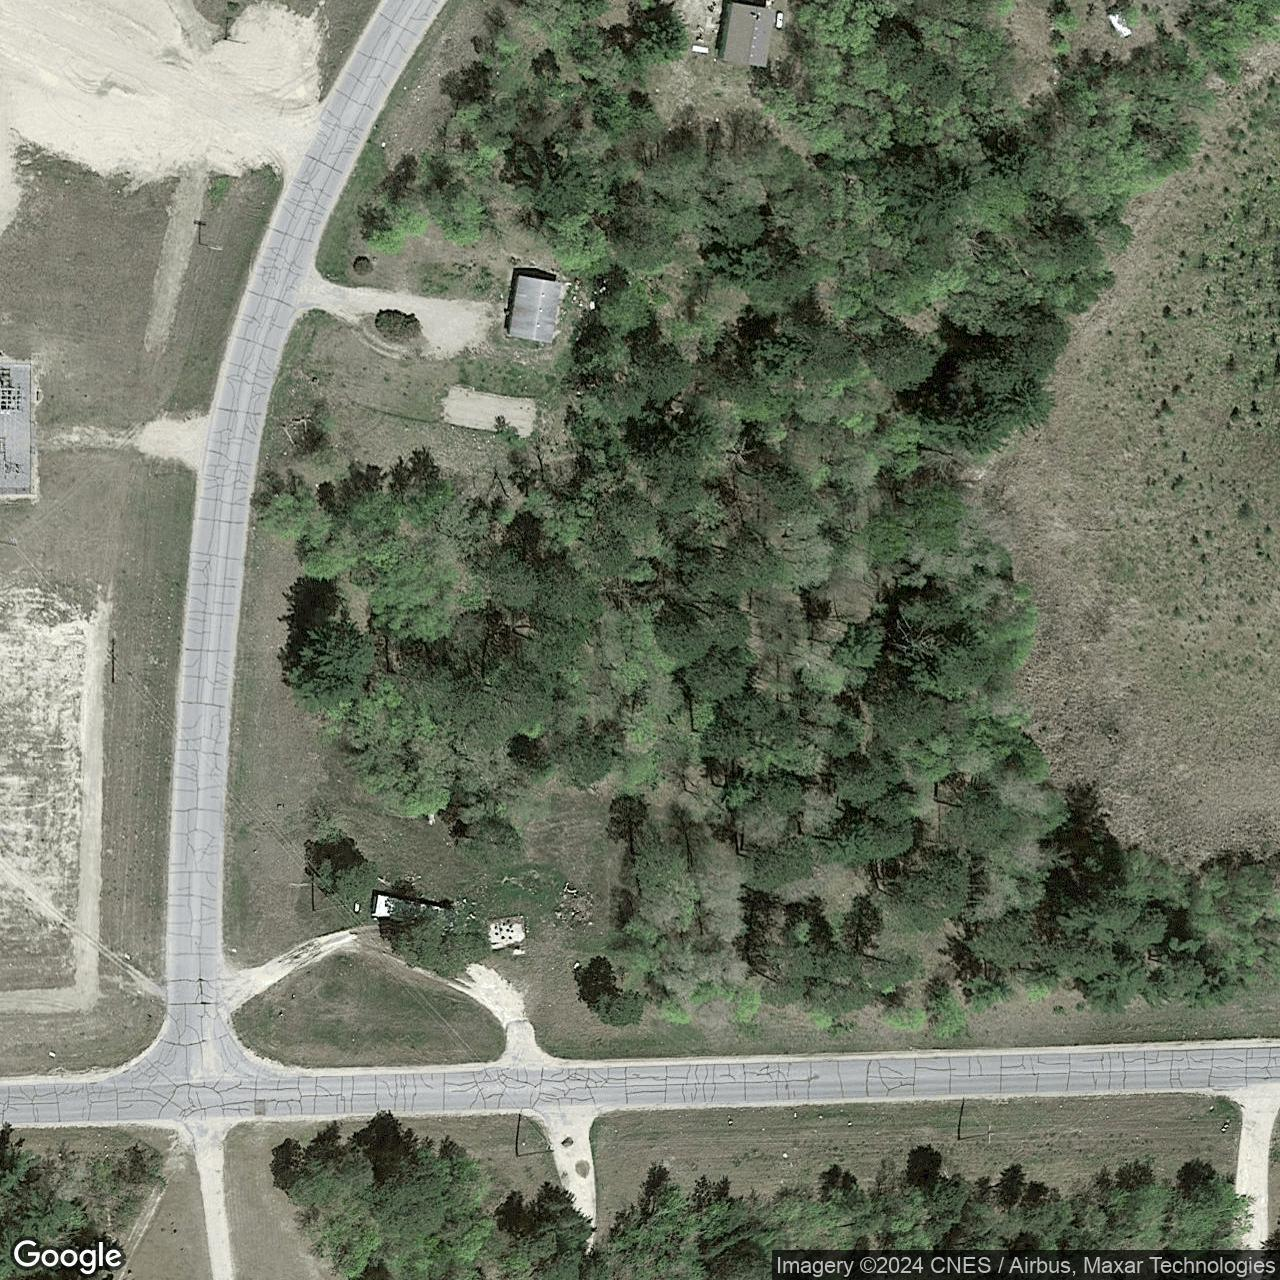House: (504, 273, 564, 346), (720, 1, 777, 69)
Propane: (775, 7, 785, 30), (352, 900, 362, 914)
Trailer: (373, 894, 449, 930)
